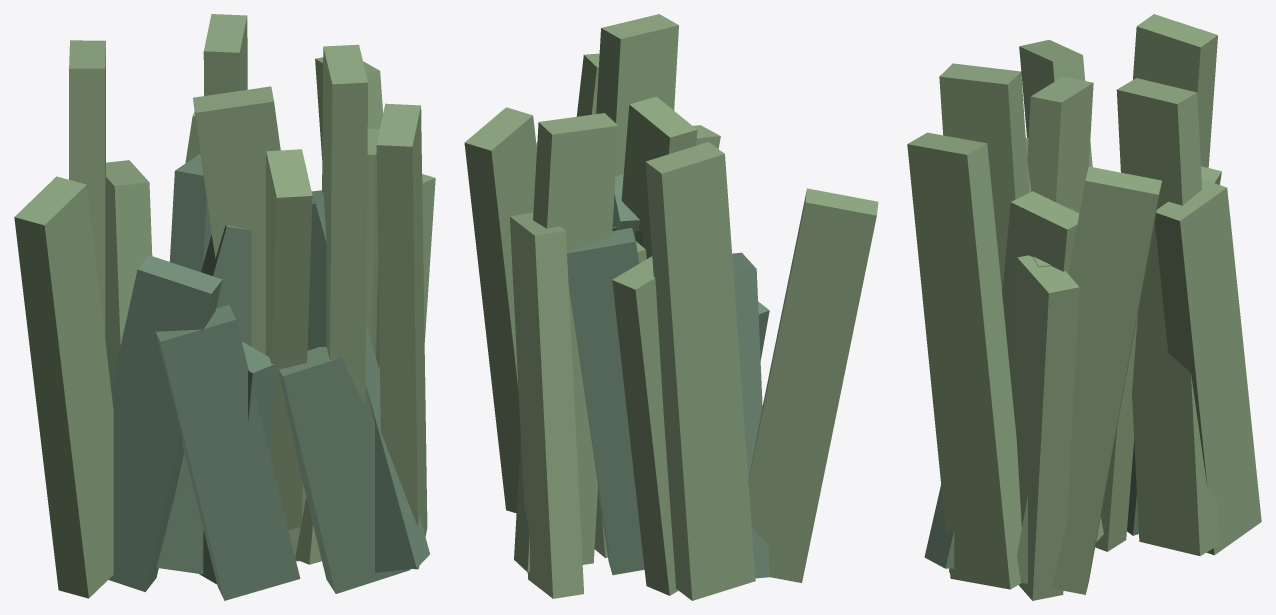
Rendered from mdl_vegetation_grass_clump_001.glb.
The picture shows the model from 3 angles, left to right: view 1: azimuth 30°, elevation 25°; view 2: azimuth 150°, elevation 25°; view 3: azimuth 270°, elevation 25°; orthographic projection. The views are drawn at different scales.
Visible parts, largest first — view 1: m_manigua_claro, m_manigua; view 2: m_manigua_claro, m_manigua; view 3: m_manigua_claro, m_manigua.
Boxes of the visible parts, left/top/right/bottom form: m_manigua_claro: left=14, top=14, right=435, bottom=598; m_manigua: left=108, top=153, right=429, bottom=600; m_manigua_claro: left=464, top=14, right=878, bottom=600; m_manigua: left=567, top=173, right=769, bottom=578; m_manigua_claro: left=907, top=14, right=1261, bottom=600; m_manigua: left=924, top=207, right=1138, bottom=572.
Bounding box in the file's own units: 0.4046 × 0.4802 × 0.3128.
